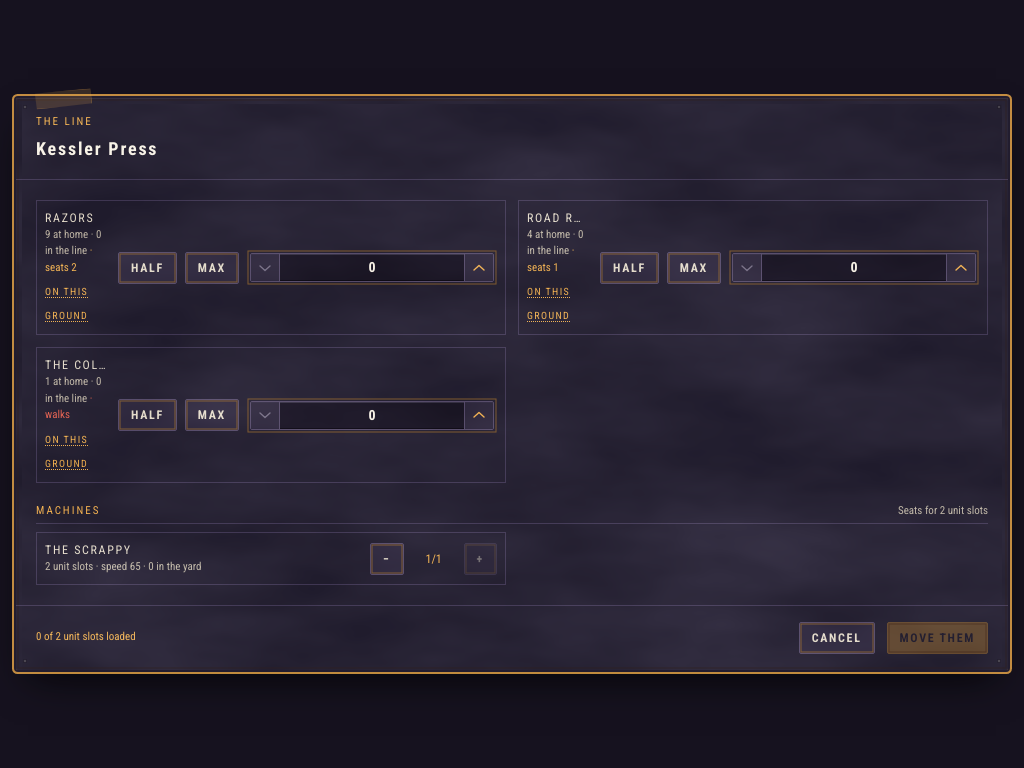
Test: what the machines will seat › leaves a sheet that will not ride out of the rule entirely
The image size is (1024, 768).
Click the button with test id "deploy-max-the_colossus" at (212, 415), box [185,399,239,431]
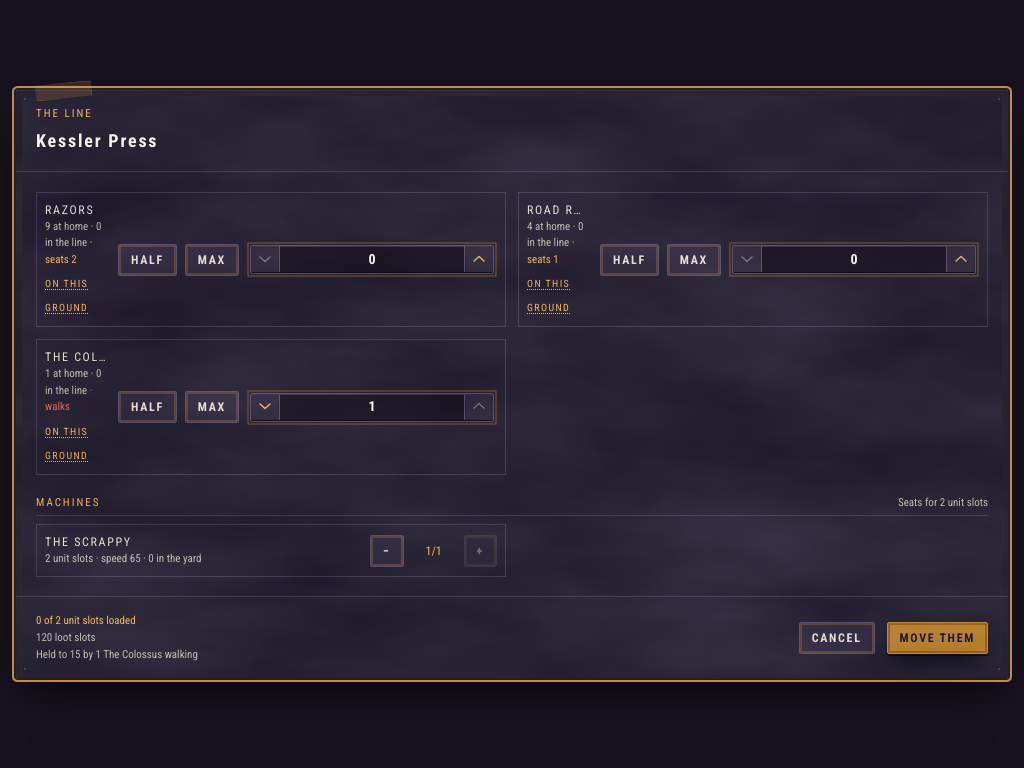
Expected: the text with test id "deploy-seats" reads "0 of 2 unit slots loaded", [36,614,136,627]
Now the number field with test id "line-the_colossus" holds "1", box [279,393,465,420]
